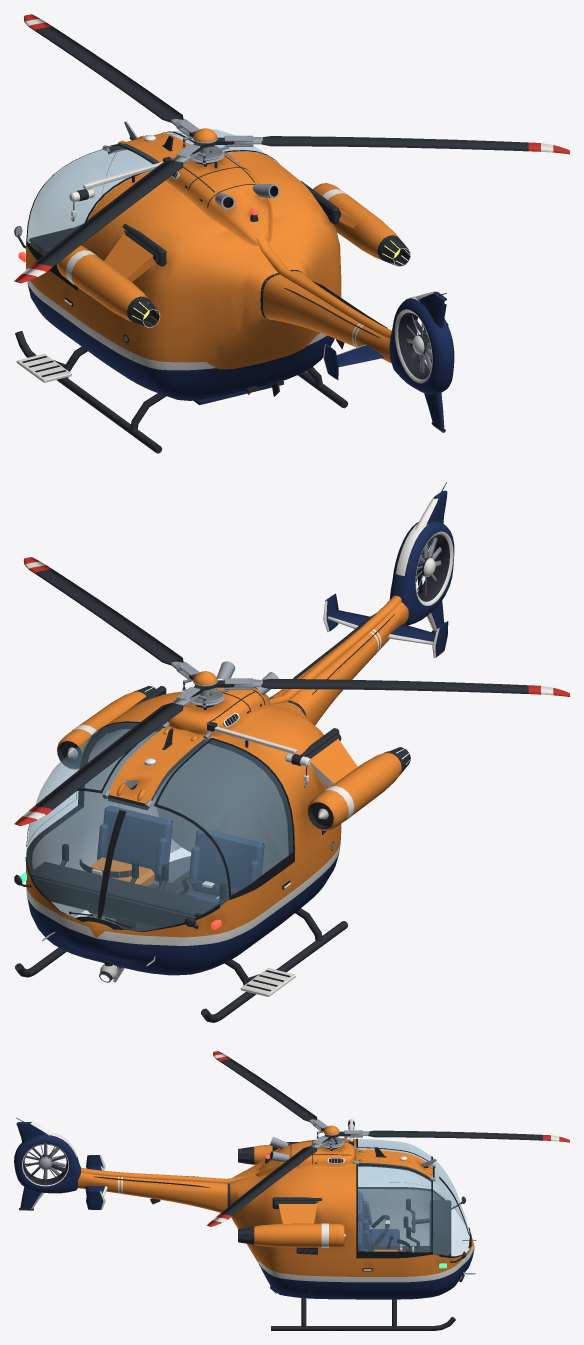
Rendered from helicopter_boarding.glb.
3 views of the same model, one above another, from view 1: azimuth 30°, elevation 25°; view 2: azimuth 150°, elevation 25°; view 3: azimuth 270°, elevation 25° (orthographic). The views are drawn at different scales.
Visible parts, largest first — view 1: Body, MainRotorBlades, Door_L, JetPod_L, Windows, FrameAndSkids, JetPod_R, MainRotor, Step_L, JetNozzle_L, Interior, JetNozzle_R; view 2: Body, Windows, Door_L, Interior, MainRotorBlades, Door_R, JetPod_L, Seat_L, Seat_R, FrameAndSkids, JetPod_R, MainRotor (+2 smaller); view 3: Body, Door_R, Door_L, MainRotorBlades, JetPod_R, Windows, FrameAndSkids, Interior, MainRotor, Seat_L, TailRotor.
Part boxes in pixels (<box>): Body: <box>14,121,454,432</box>; MainRotorBlades: <box>14,14,569,283</box>; Door_L: <box>26,143,159,354</box>; JetPod_L: <box>57,230,158,323</box>; Windows: <box>26,135,193,243</box>; FrameAndSkids: <box>15,181,348,453</box>; JetPod_R: <box>313,183,402,262</box>; MainRotor: <box>171,119,262,164</box>; Step_L: <box>16,353,71,382</box>; JetNozzle_L: <box>130,299,160,327</box>; Interior: <box>28,226,79,264</box>; JetNozzle_R: <box>381,238,410,266</box>; Body: <box>14,482,454,982</box>; Windows: <box>26,791,228,930</box>; Door_L: <box>151,738,294,968</box>; Interior: <box>28,731,288,931</box>; MainRotorBlades: <box>14,557,569,825</box>; Door_R: <box>26,721,162,910</box>; JetPod_L: <box>307,733,403,830</box>; Seat_L: <box>188,828,264,903</box>; Seat_R: <box>88,805,172,918</box>; FrameAndSkids: <box>15,686,347,1022</box>; JetPod_R: <box>57,690,148,769</box>; MainRotor: <box>171,661,262,707</box>; Body: <box>14,1117,476,1299</box>; Door_R: <box>356,1163,432,1298</box>; Door_L: <box>356,1138,432,1241</box>; MainRotorBlades: <box>207,1051,569,1226</box>; JetPod_R: <box>250,1201,346,1247</box>; Windows: <box>432,1158,469,1255</box>; FrameAndSkids: <box>271,1142,455,1330</box>; Interior: <box>371,1200,451,1256</box>; MainRotor: <box>309,1119,369,1149</box>; Seat_L: <box>358,1191,399,1245</box>; TailRotor: <box>25,1144,65,1179</box>.
Size of the model in its own units: 9.24 by 4.5 by 12.36.
